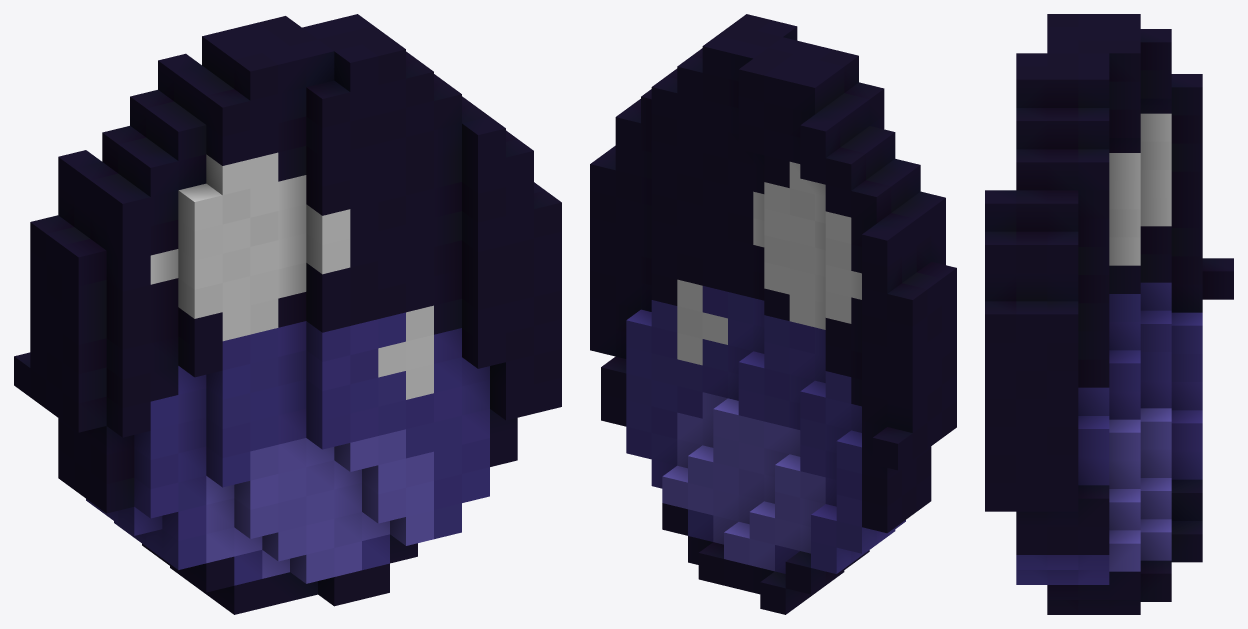
File: eye_r.glb
3 views of the same model, side by side, from view 1: azimuth 30°, elevation 25°; view 2: azimuth 150°, elevation 25°; view 3: azimuth 270°, elevation 25° (orthographic). The views are drawn at different scales.
Parts seen in each view (by area): view 1: eye_r; view 2: eye_r; view 3: eye_r.
Boxes of the visible parts, <box> form: eye_r: <box>14,14,561,614</box>; eye_r: <box>590,14,956,614</box>; eye_r: <box>985,14,1233,614</box>.
Bounding box in the file's own units: 0.1339 × 0.1696 × 0.0714.
